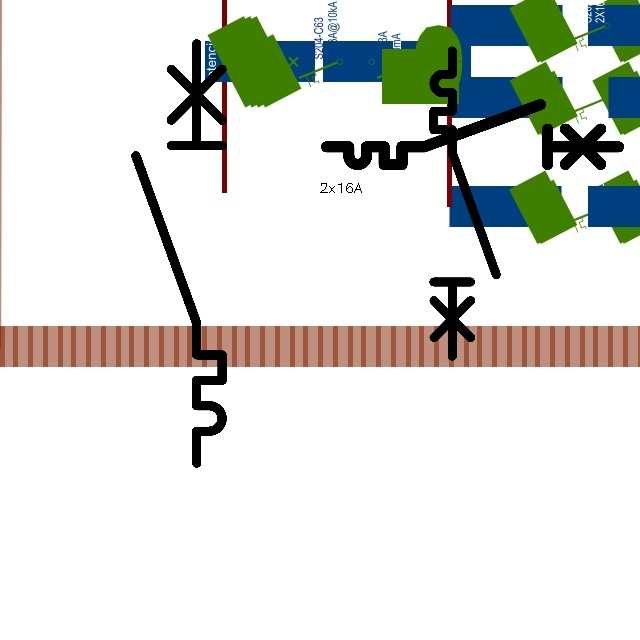interruptor_termomagnetico: (125, 33, 233, 474), (426, 43, 504, 364), (319, 97, 626, 172)
